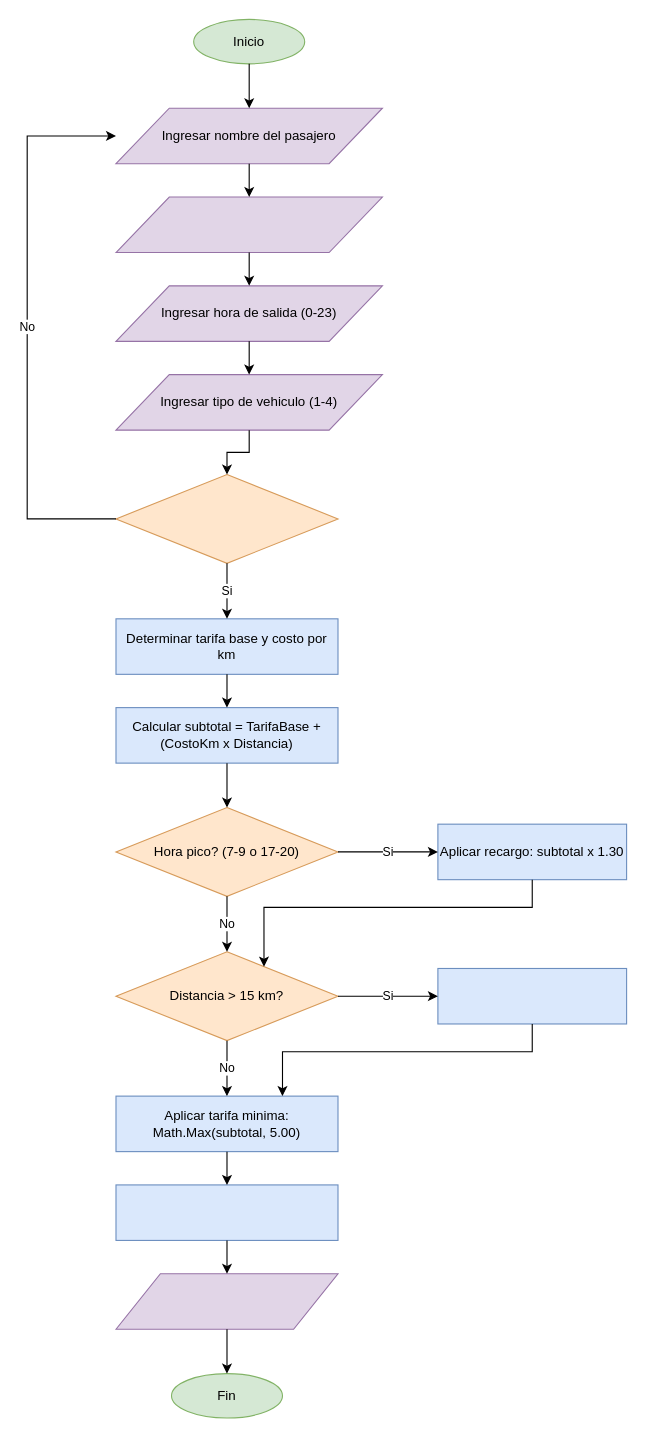
The diagram is 646 pixels wide and 1437 high, and some of its shapes have lost their labels. The shapes that lost their labels are listed below. From the top down, each one's centre as x and y in pixels, then its label:
point 248,224: Ingresar distancia del viaje (km)
point 226,518: Tipo valido?
point 532,995: Aplicar descuento: subtotal x 0.95
point 226,1212: Redondear a 2 decimales
point 226,1301: Mostrar resumen del viaje
